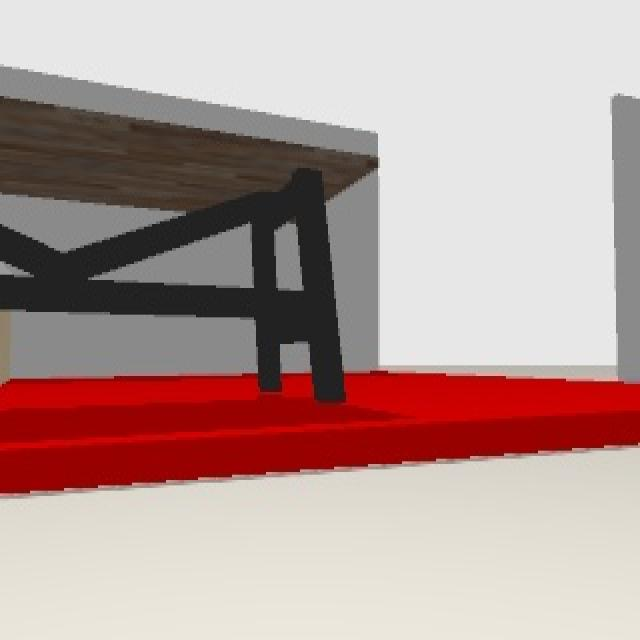dining: (1, 97, 381, 400)
